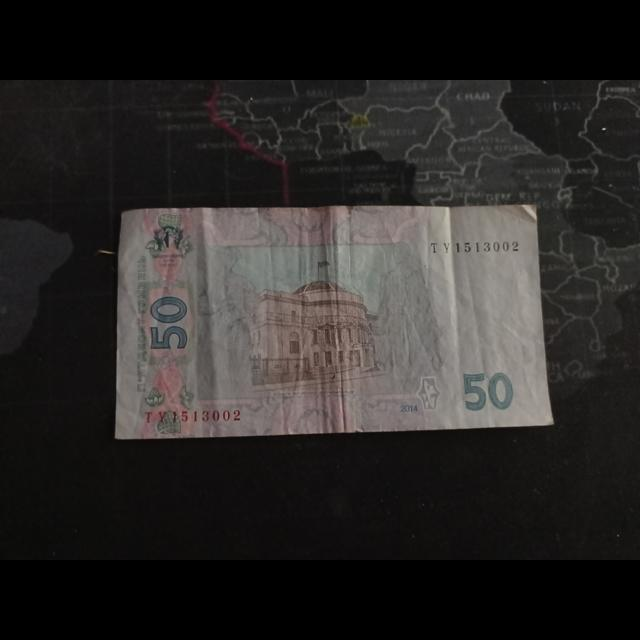50uah: (115, 203, 553, 438)
